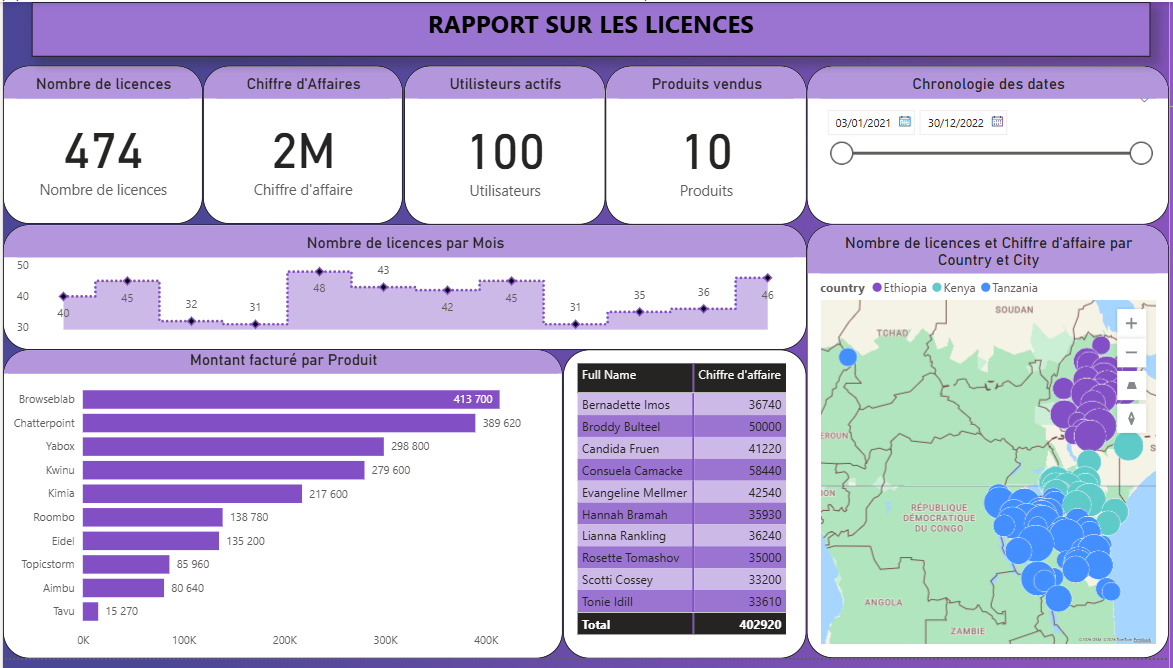

The page's visual inventory and layout, read from the dashboard file:
{"tool":"powerbi","page":{"name":"Page 1","canvas":[1280,720],"ordinal":0},"visuals":[{"type":"card","title":"Nombre de licences","fields":{"Values":["Mesures.Nombre de licences"]},"box":[0,70,219.6,173.7],"z":0},{"type":"clusteredBarChart","title":"Montant facturé par Produit","fields":{"Category":["products.product name"],"Y":["Sum(licences.Montant facturé)"]},"box":[0,381.5,614.8,338.9],"z":1000},{"type":"azureMap","title":"Nombre de licences et Chiffre d''affaire par Country et City","fields":{"Size":["Mesures.Nombre de licences"],"Category":["users.country","users.city"],"Series":["users.country"]},"box":[882.3,244.3,397.9,476.2],"z":2000},{"type":"lineChart","fields":{"Y":["Mesures.Nombre de licences"],"Category":["licences.purchase_date.Variation.Hiérarchie de dates.Mois"]},"box":[0,244.3,882.3,137.2],"z":3000},{"type":"slicer","title":"Chronologie des dates","fields":{"Values":["licences.purchase_date"]},"box":[882.3,70,397.9,174.3],"z":4000},{"type":"card","title":"Chiffre d''Affaires","fields":{"Values":["Mesures.Chiffre d'affaire"]},"box":[219.6,70,219.6,173.7],"z":5000},{"type":"textbox","box":[31.6,0,1228.1,60.4],"z":6000},{"type":"card","title":"Utilisteurs actifs","fields":{"Values":["Mesures.Utilisateurs"]},"box":[440.5,70,220.9,174.3],"z":7000},{"type":"card","title":"Produits vendus","fields":{"Values":["Mesures.Produits"]},"box":[661.4,70,220.9,174.3],"z":8000},{"type":"tableEx","fields":{"Values":["users.full_name","Mesures.Chiffre d'affaire"]},"box":[614.8,381.5,267.6,338.9],"z":9000}]}

Visuals, with their boxes in screenshot pixels (x1, y1, x2, y2), scaled from the page's 1280x720 canvas onto the 1173x668 screenshot:
"Nombre de licences" card: x1=0, y1=65, x2=201, y2=226
"Montant facturé par Produit" clusteredBarChart: x1=0, y1=354, x2=563, y2=667
"Nombre de licences et Chiffre d''affaire par Country et City" azureMap: x1=809, y1=227, x2=1172, y2=667
lineChart - Mesures.Nombre de licences x licences.purchase_date.Variation.Hiérarchie de dates.Mois: x1=0, y1=227, x2=809, y2=354
"Chronologie des dates" slicer: x1=809, y1=65, x2=1172, y2=227
"Chiffre d''Affaires" card: x1=201, y1=65, x2=402, y2=226
textbox: x1=29, y1=0, x2=1154, y2=56
"Utilisteurs actifs" card: x1=404, y1=65, x2=606, y2=227
"Produits vendus" card: x1=606, y1=65, x2=809, y2=227
tableEx - users.full_name x Mesures.Chiffre d'affaire: x1=563, y1=354, x2=809, y2=667
